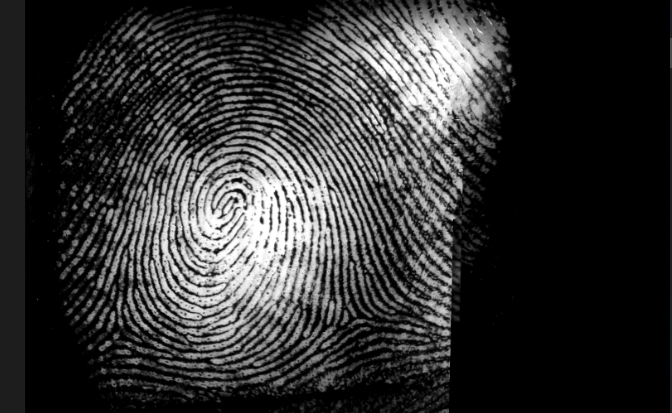deltas: (310, 281, 382, 341), (91, 296, 152, 353)
nucleo: (187, 167, 260, 233)
